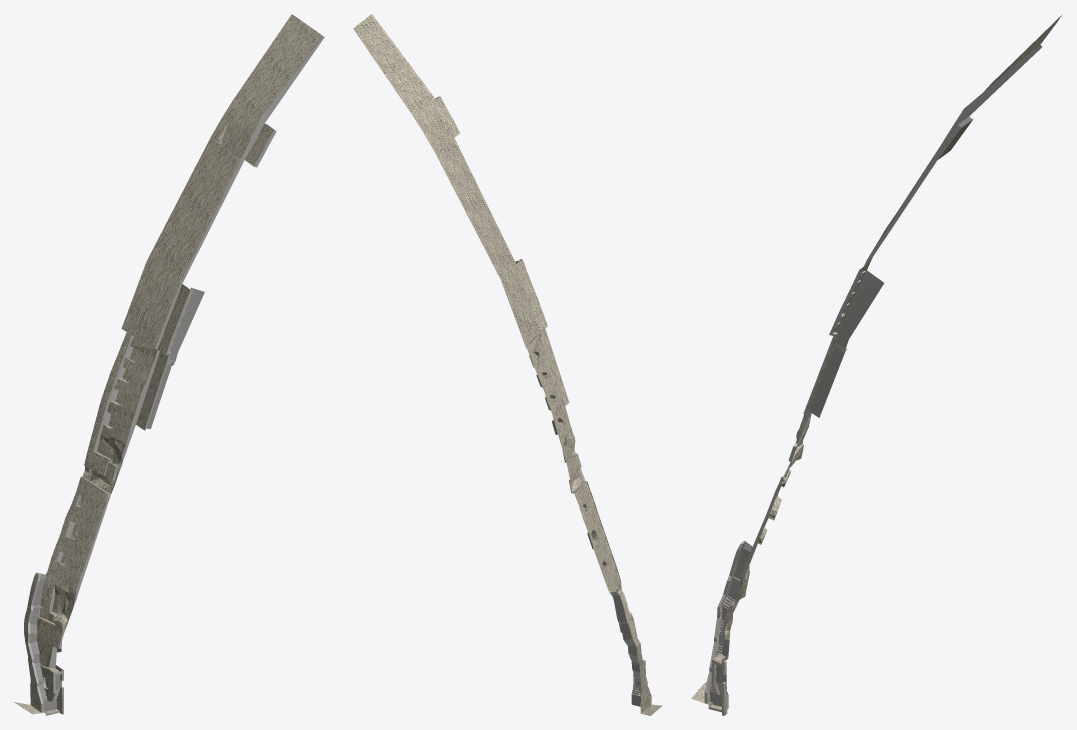
File: Toompeamyyr_a-origo.obj
3 views of the same model, side by side, from view 1: azimuth 30°, elevation 25°; view 2: azimuth 150°, elevation 25°; view 3: azimuth 330°, elevation 25° (orthographic). The views are drawn at different scales.
Visible parts, largest first — view 1: Toompeamyyr_a; view 2: Toompeamyyr_a; view 3: Toompeamyyr_a.
Part boxes in pixels (box(x1,y1,x2,y2)): Toompeamyyr_a: box(14, 14, 324, 715); Toompeamyyr_a: box(353, 14, 662, 715); Toompeamyyr_a: box(691, 15, 1061, 715).
Bounding box in the file's own units: 87.69 × 177 × 17.55.
